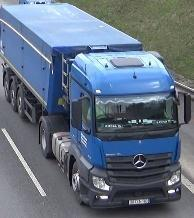Truck: (2, 5, 192, 207)
